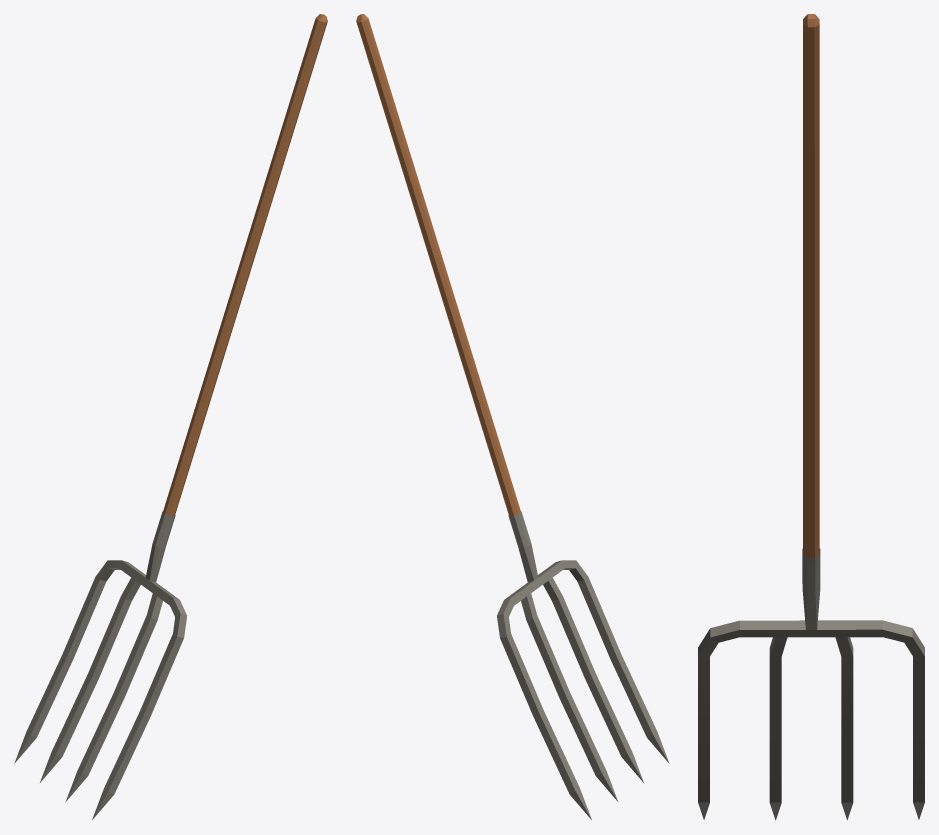
Rendered from Prop_Decorative_Hay_Pitchfork.obj.
3 renders of one model, left to right at view 1: azimuth 30°, elevation 25°; view 2: azimuth 150°, elevation 25°; view 3: azimuth 270°, elevation 25°, orthographic. The views are drawn at different scales.
Parts seen in each view (by area): view 1: object2, object1; view 2: object2, object1; view 3: object2, object1.
Part boxes in pixels (left/top/right/bottom): object2: left=14, top=511, right=186, bottom=819; object1: left=163, top=14, right=327, bottom=516; object2: left=497, top=511, right=669, bottom=819; object1: left=356, top=14, right=520, bottom=516; object2: left=698, top=548, right=924, bottom=820; object1: left=803, top=14, right=819, bottom=557.
Bounding box in the file's own units: 0.6558 × 1.63 × 0.3388.
